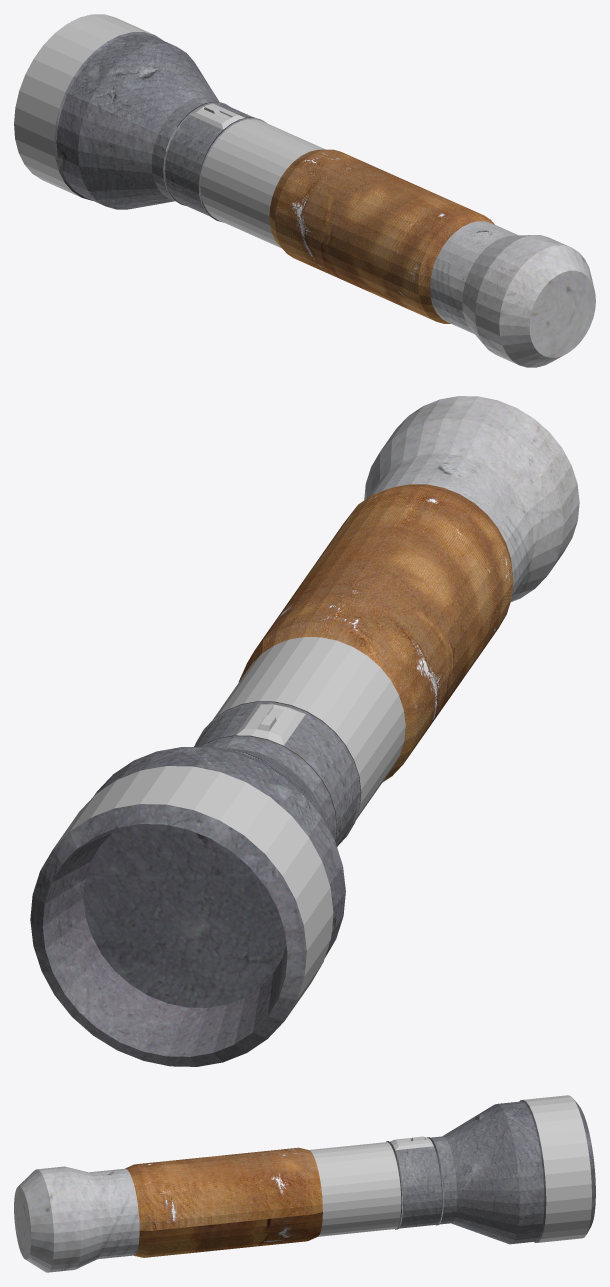
Rendered from Lantern_bench.obj.
3 renders of one model, top to bottom at view 1: azimuth 30°, elevation 25°; view 2: azimuth 150°, elevation 25°; view 3: azimuth 270°, elevation 25°, orthographic. The views are drawn at different scales.
Parts seen in each view (by area): view 1: Lanterna.006_Circle.022, Lanterna.010_Circle.026, Lanterna.009_Circle.025, Lanterna.008_Circle.024, Lanterna.007_Circle.023; view 2: Lanterna.006_Circle.022, Lanterna.010_Circle.026, Lanterna.009_Circle.025, Lanterna.008_Circle.024, Lanterna.007_Circle.023; view 3: Lanterna.006_Circle.022, Lanterna.010_Circle.026, Lanterna.009_Circle.025, Lanterna.008_Circle.024, Lanterna.007_Circle.023.
Boxes of the visible parts, x1,y1,x2,y2 form: Lanterna.006_Circle.022: [54, 21, 595, 367]; Lanterna.010_Circle.026: [269, 149, 494, 323]; Lanterna.009_Circle.025: [200, 119, 325, 248]; Lanterna.008_Circle.024: [14, 14, 176, 197]; Lanterna.007_Circle.023: [190, 103, 244, 129]; Lanterna.006_Circle.022: [30, 396, 579, 1066]; Lanterna.010_Circle.026: [238, 484, 513, 781]; Lanterna.009_Circle.025: [213, 637, 405, 819]; Lanterna.008_Circle.024: [53, 766, 333, 1066]; Lanterna.007_Circle.023: [236, 704, 305, 745]; Lanterna.006_Circle.022: [14, 1099, 595, 1272]; Lanterna.010_Circle.026: [125, 1147, 322, 1257]; Lanterna.009_Circle.025: [309, 1142, 401, 1236]; Lanterna.008_Circle.024: [523, 1095, 591, 1242]; Lanterna.007_Circle.023: [390, 1136, 433, 1150].
Size of the model in its own units: 0.1538 by 0.0891 by 0.3595.
